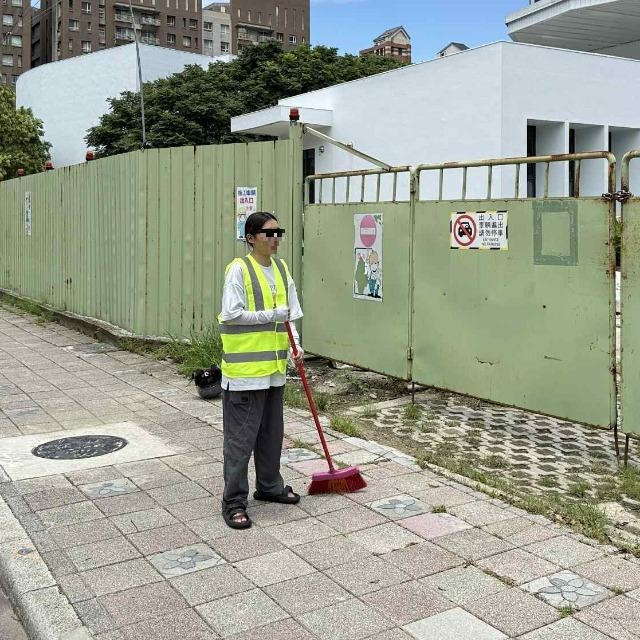NoHelmet: (241, 208, 286, 261)
Vest: (218, 259, 308, 391)
